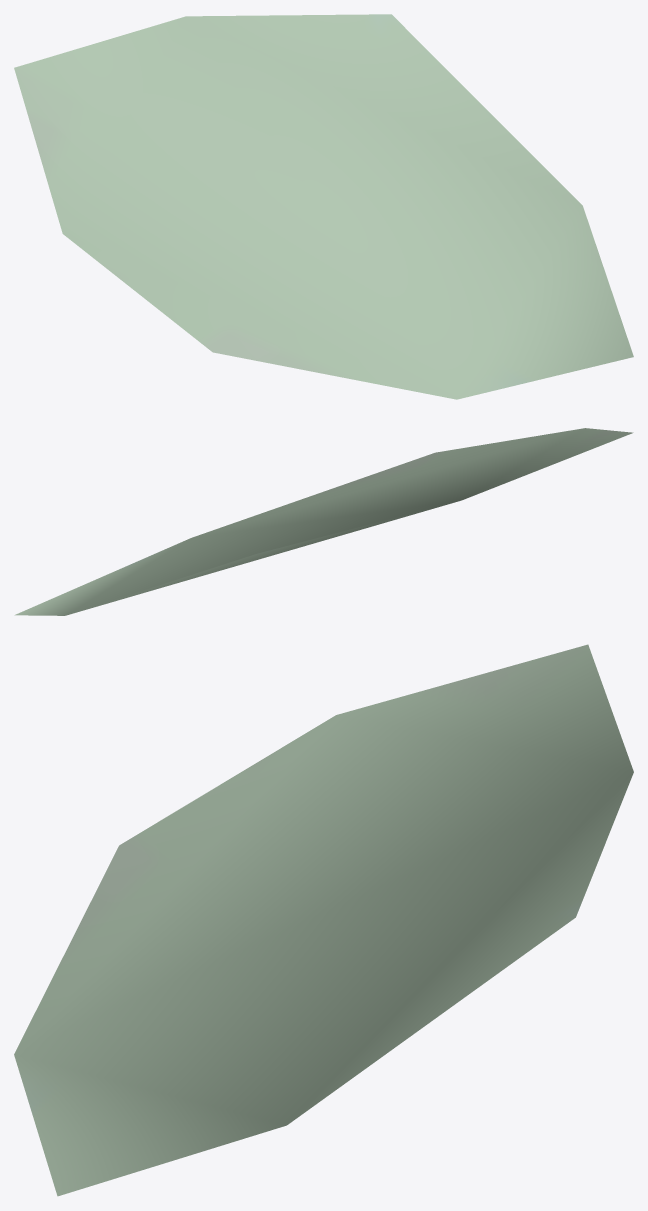
Rendered from TROLLHOLE02_HOLECAP205.fbx.
The picture shows the model from 3 angles, top to bottom: view 1: azimuth 30°, elevation 25°; view 2: azimuth 210°, elevation 25°; view 3: azimuth 270°, elevation 25°; orthographic projection. The views are drawn at different scales.
Visible parts, largest first — view 1: TROLLHOLE02_HOLECAP205; view 2: TROLLHOLE02_HOLECAP205; view 3: TROLLHOLE02_HOLECAP205.
Boxes of the visible parts, left/top/right/bottom form: TROLLHOLE02_HOLECAP205: left=14, top=14, right=633, bottom=399; TROLLHOLE02_HOLECAP205: left=14, top=428, right=633, bottom=615; TROLLHOLE02_HOLECAP205: left=14, top=644, right=633, bottom=1196.
Size of the model in its own units: 10379 by 4672 by 8791.
Materials: 1 (1 with a texture image).
